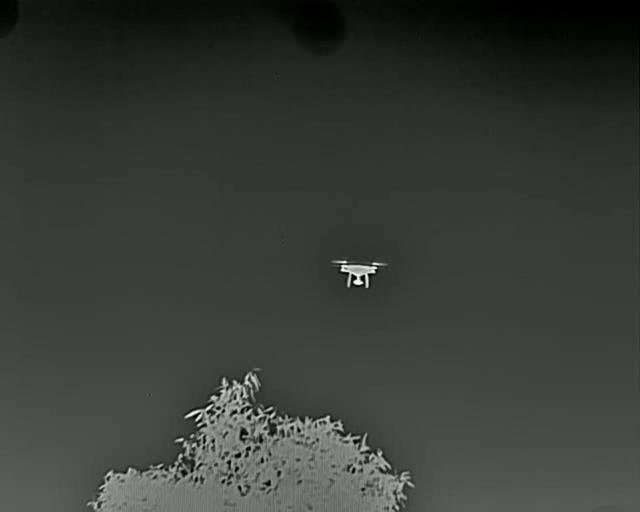DJI-Phantom: (328, 252, 389, 293)
